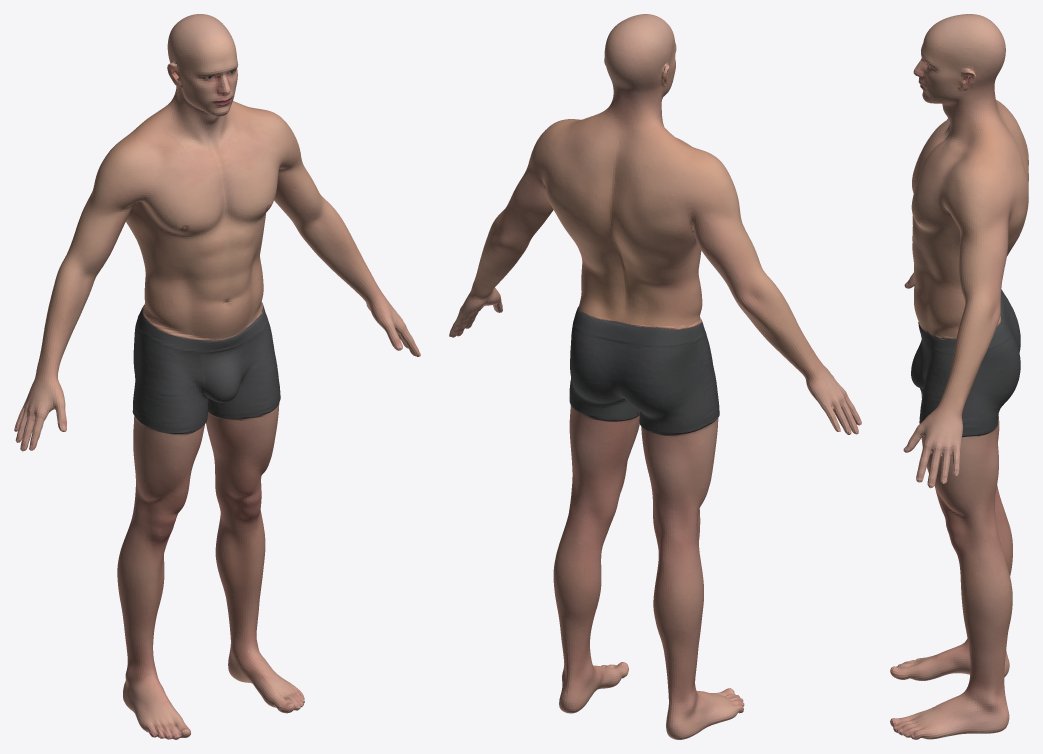
File: protagonista_v4_meshy6.glb
3 views of the same model, side by side, from view 1: azimuth 30°, elevation 25°; view 2: azimuth 150°, elevation 25°; view 3: azimuth 270°, elevation 25° (orthographic).
Parts seen in each view (by area): view 1: Mesh_0; view 2: Mesh_0; view 3: Mesh_0.
Boxes of the visible parts, left/top/right/bottom form: Mesh_0: left=14, top=14, right=420, bottom=739; Mesh_0: left=449, top=14, right=861, bottom=739; Mesh_0: left=890, top=14, right=1028, bottom=739.
Bounding box in the file's own units: 1.15 × 1.9 × 0.3472.
Materials: 1 (1 with a texture image).
